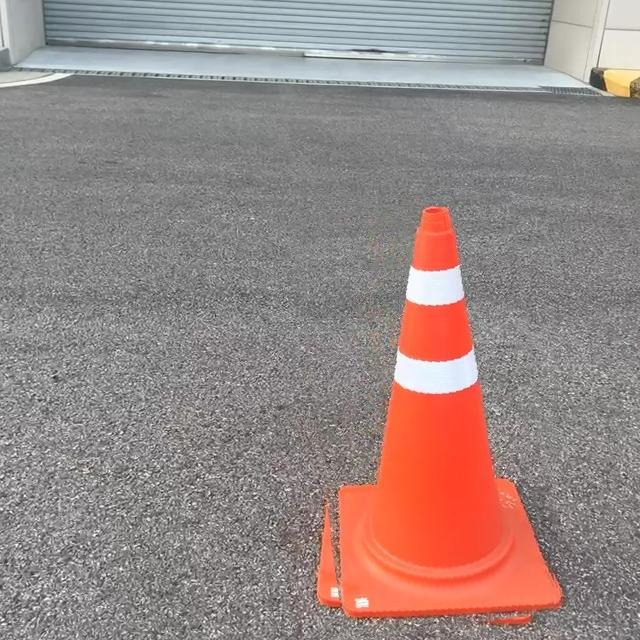fallen_object: (220, 63, 640, 640)
